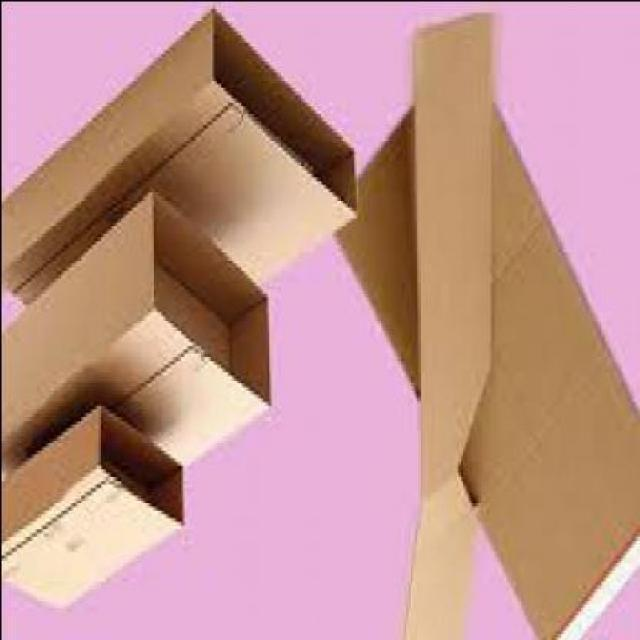box: (326, 86, 640, 639), (2, 3, 353, 311), (2, 189, 268, 483), (403, 14, 495, 638), (2, 405, 182, 614)
